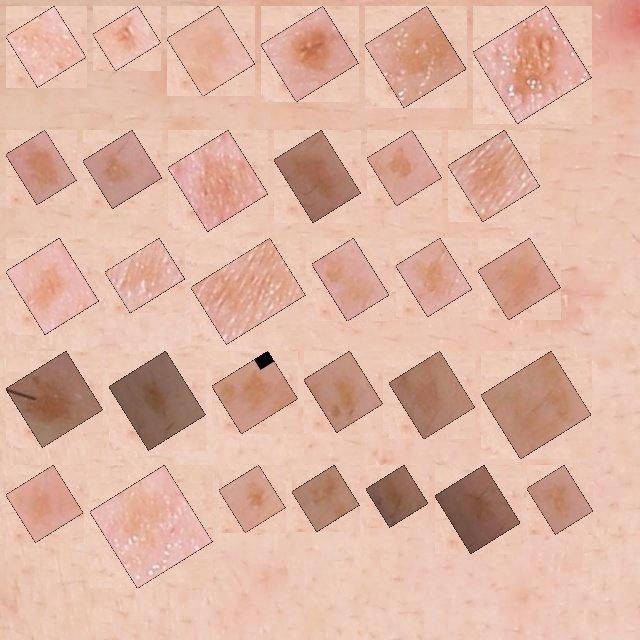melasma: (101, 476, 201, 577), (484, 17, 580, 112), (202, 249, 294, 333), (492, 362, 580, 448), (376, 17, 455, 96), (179, 141, 257, 220), (120, 362, 195, 439), (17, 362, 92, 436), (272, 17, 347, 90), (17, 249, 88, 323), (459, 141, 529, 210), (285, 141, 350, 211), (178, 17, 244, 85), (400, 362, 464, 428), (446, 476, 509, 542), (223, 362, 287, 422), (489, 249, 549, 308), (17, 17, 75, 76), (315, 362, 372, 421), (323, 249, 378, 310), (94, 141, 151, 197), (116, 249, 174, 302), (17, 476, 72, 531), (407, 249, 461, 305), (378, 141, 431, 195), (17, 141, 65, 193), (538, 476, 582, 523), (230, 476, 274, 521), (303, 476, 348, 520), (104, 17, 150, 60), (377, 476, 417, 516)
